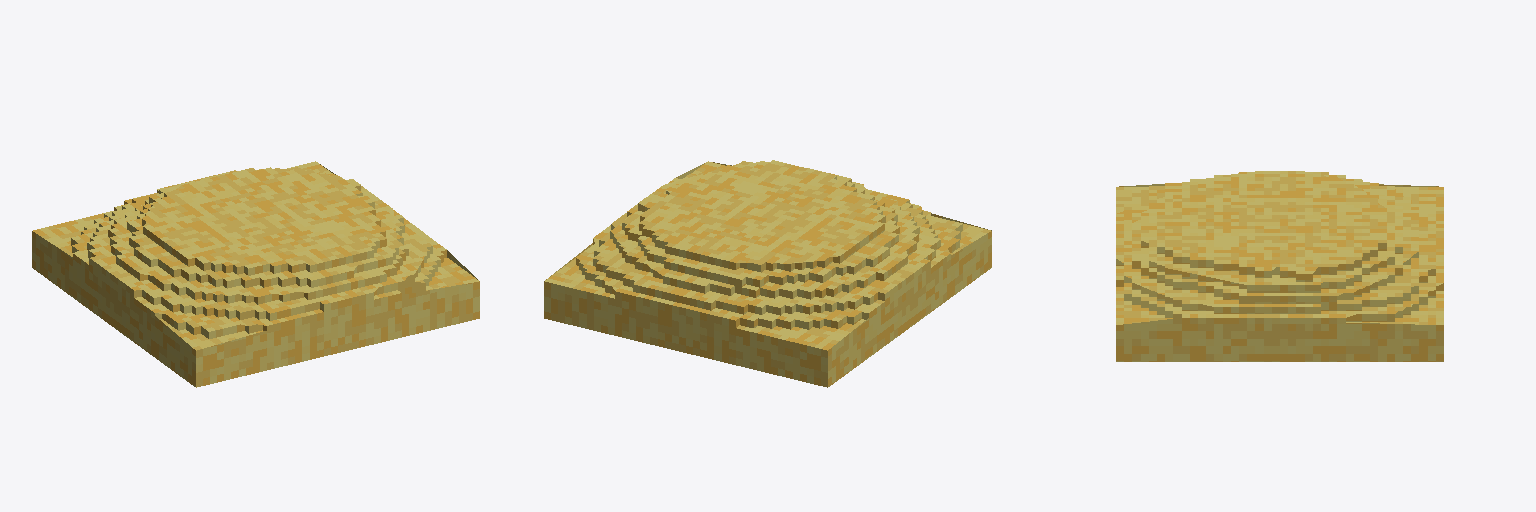
The picture shows the model from 3 angles: view 1: azimuth 30°, elevation 25°; view 2: azimuth 150°, elevation 25°; view 3: azimuth 270°, elevation 25°; orthographic projection.
Visible parts, largest first — view 1: Untitled; view 2: Untitled; view 3: Untitled.
Boxes of the visible parts, box(x1,y1,x2,y2) form: Untitled: box(32, 161, 479, 387); Untitled: box(544, 160, 991, 387); Untitled: box(1116, 171, 1443, 361).
Bounding box in the file's own units: 4 × 1 × 4.
1 materials, 1 textured.